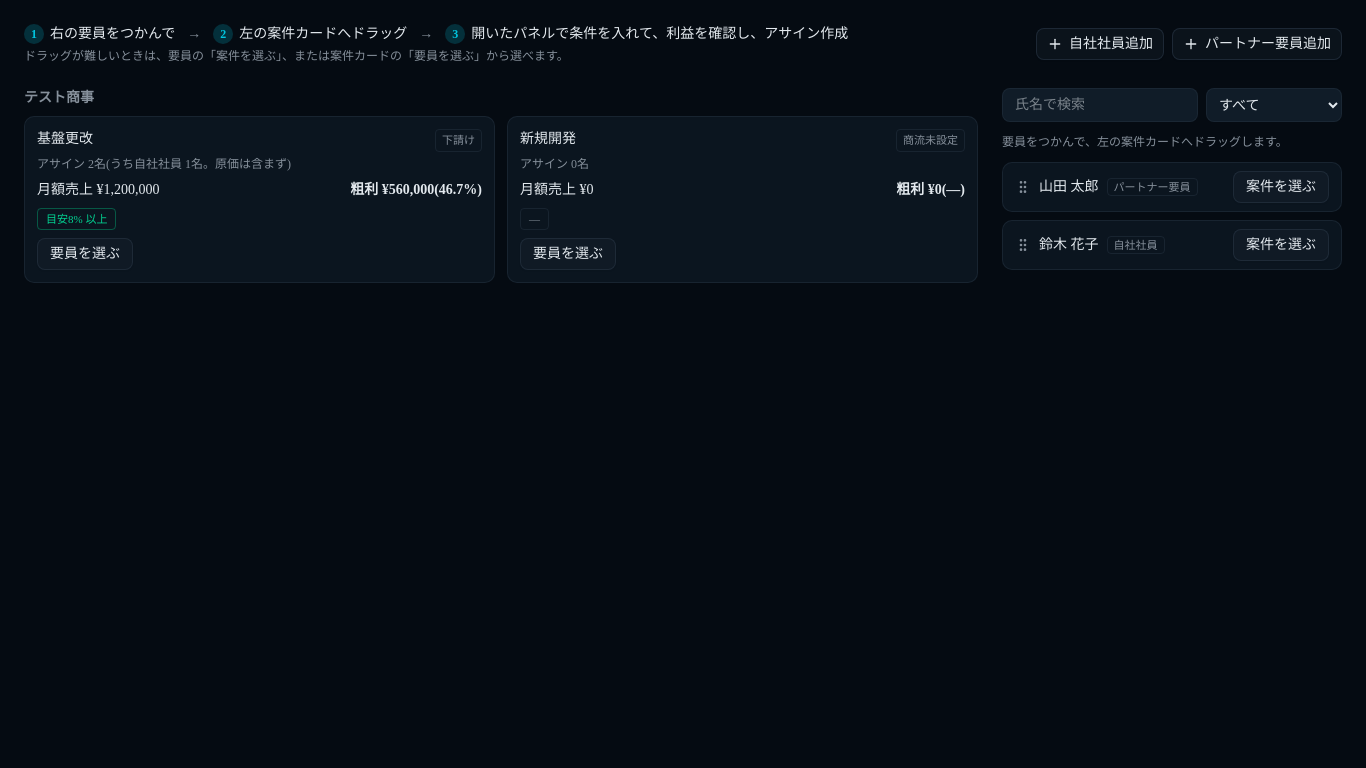
Test case: アサイン編成画面 › ドラッグ無しで(「…」メニューから案件を選んで)サイドパネルが開く。背景を覆わない
Click the button "案件を選ぶ" in the row of "山田 太郎".
click(1281, 187)  # box [1233,171,1329,203]
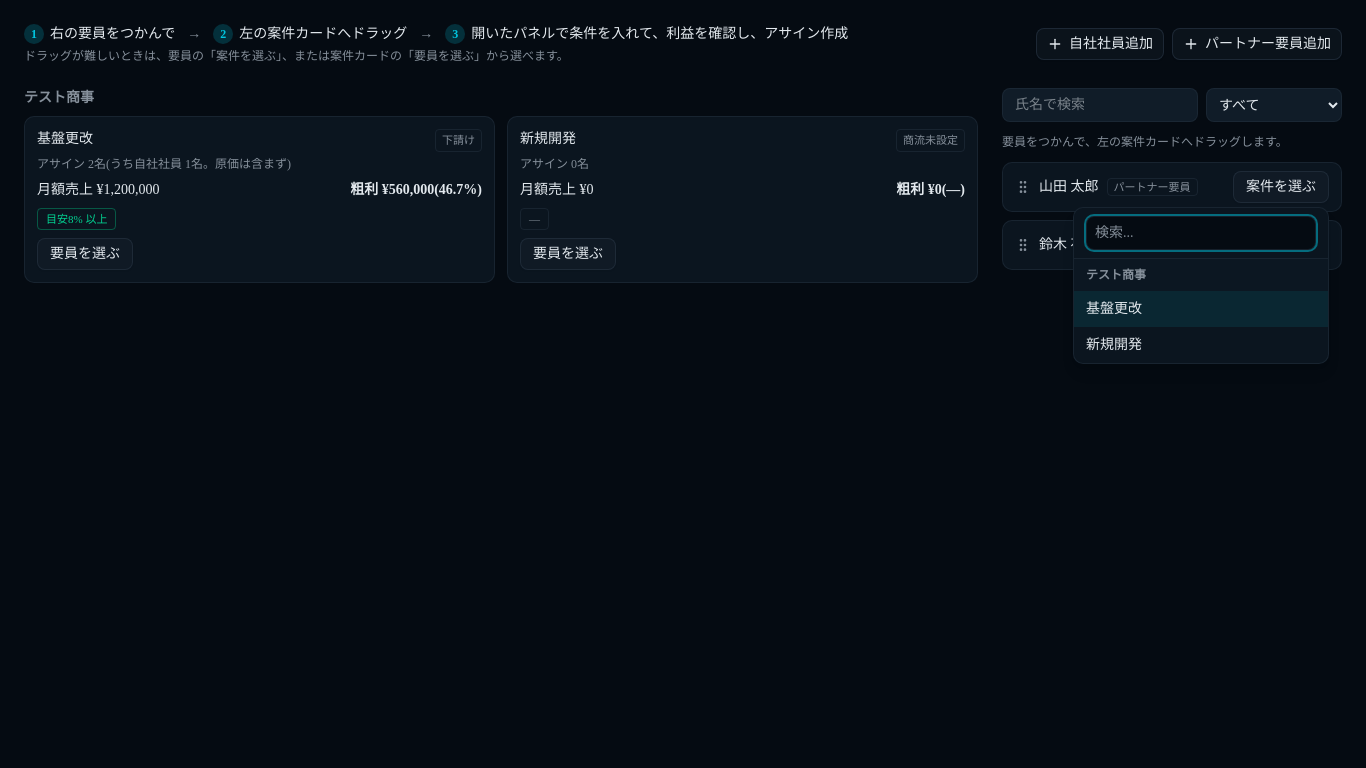
Click the button "基盤更改".
click(1201, 309)  # box [1074,291,1328,327]
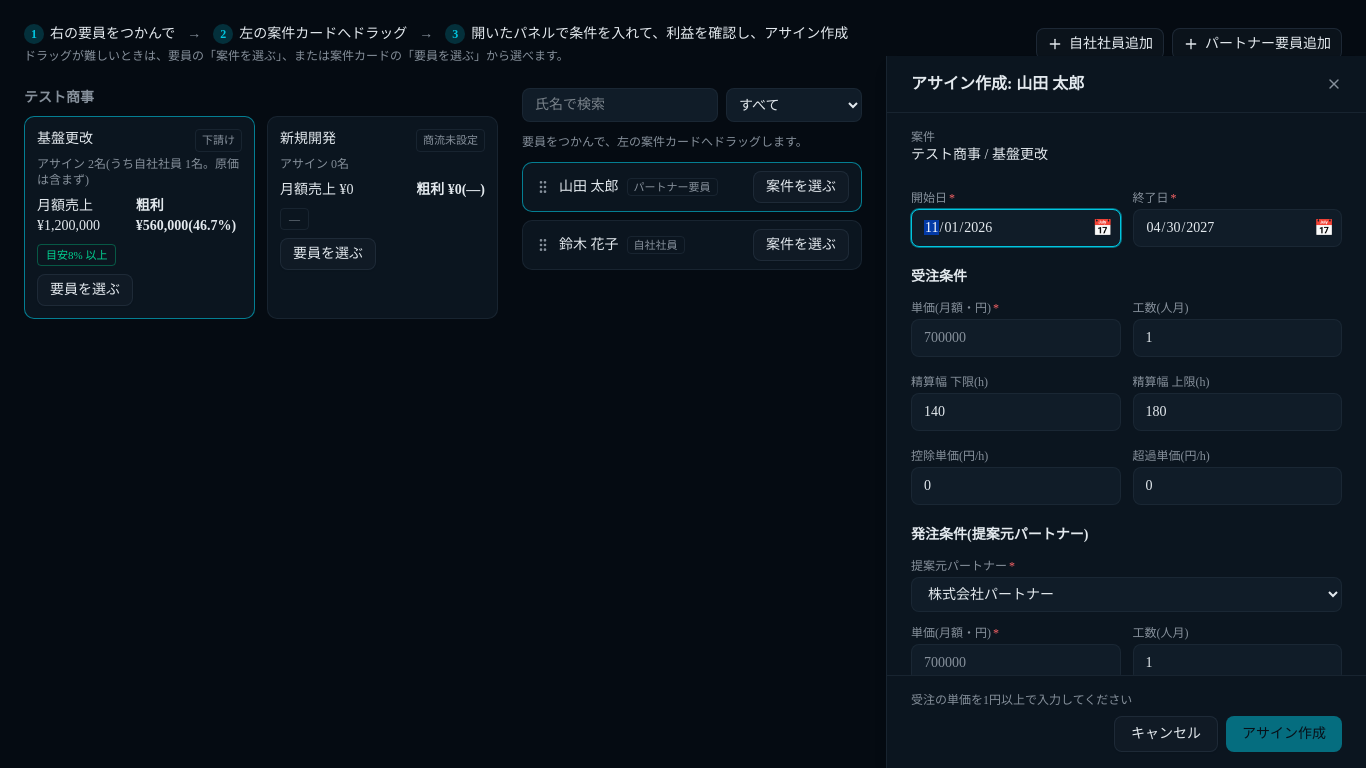
Result: the element named "アサイン作成: 山田 太郎" is shown at [886,56,1365,767]
Result: the heading "発注条件(提案元パートナー)" is shown at [911,527,1088,542]
Result: the button "アサイン作成" is disabled at [1226,716,1342,752]
